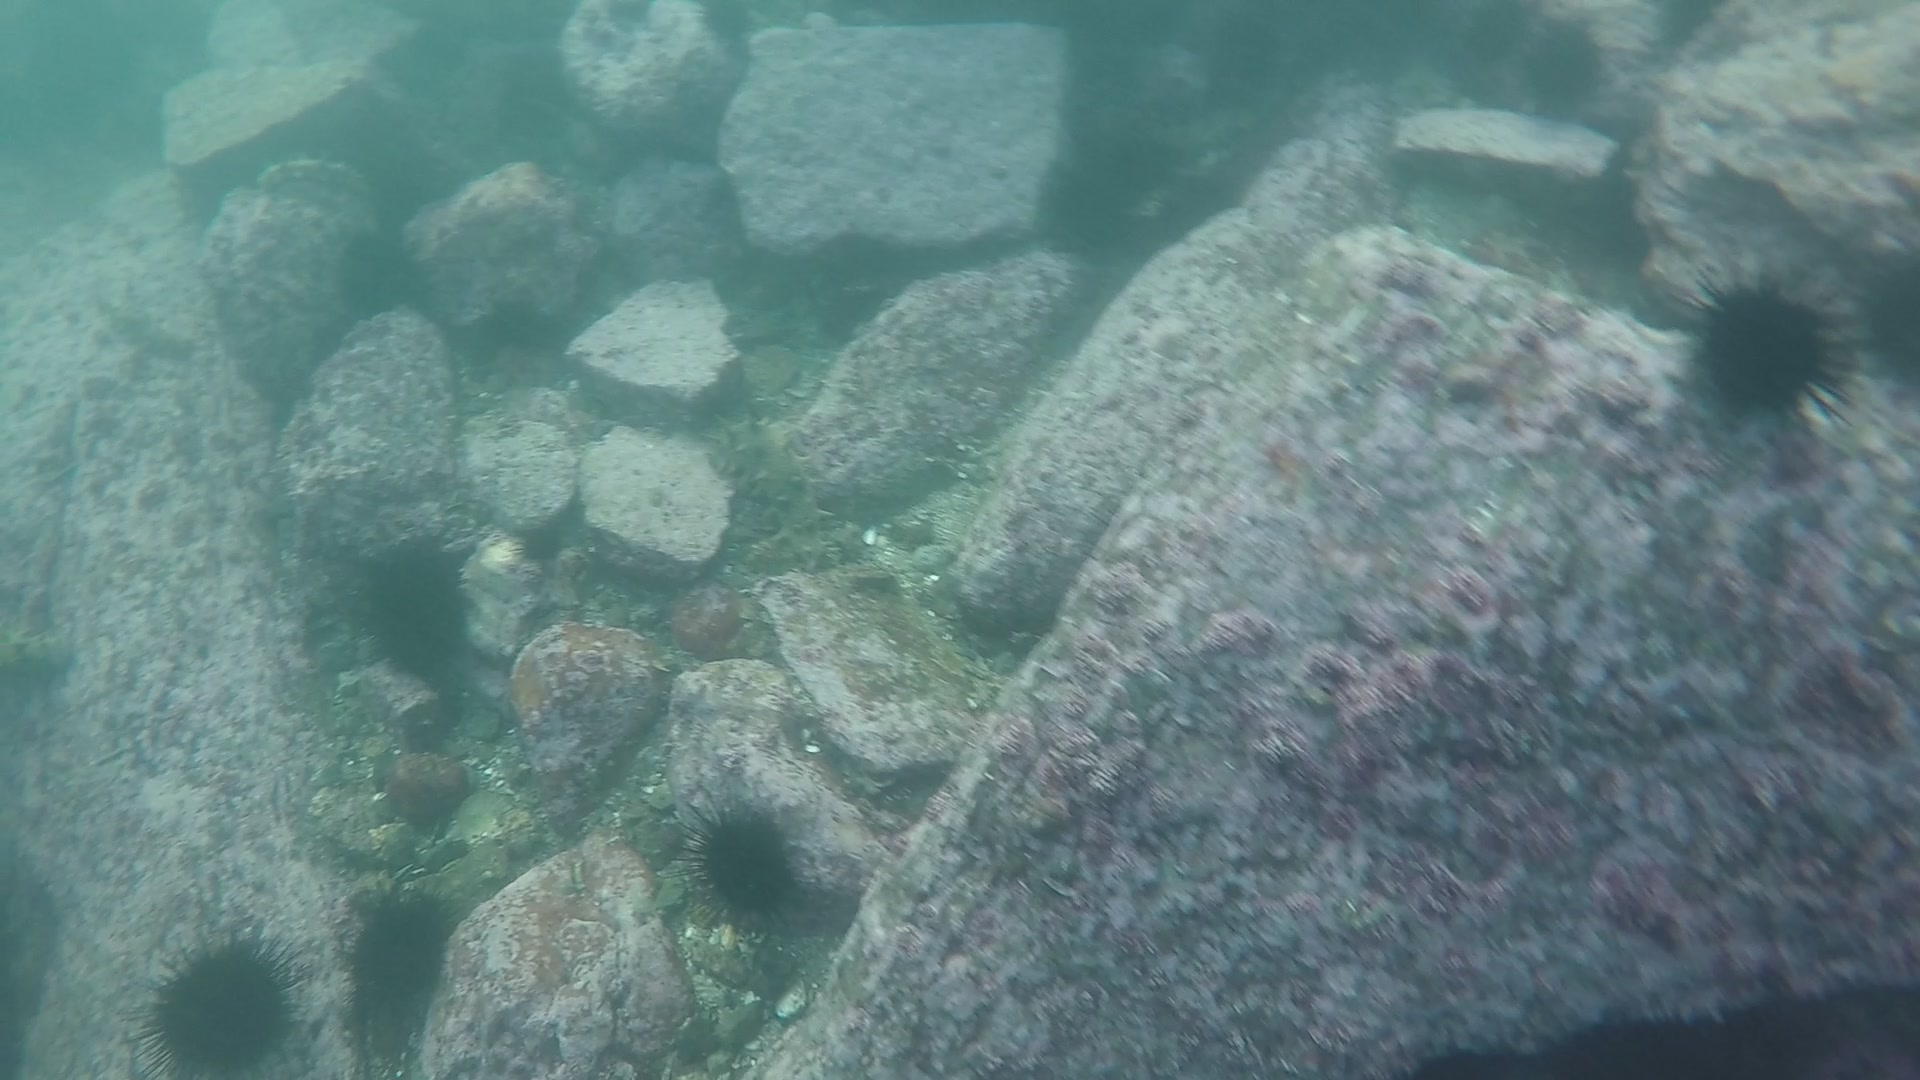echinus: (1683, 261, 1880, 430), (127, 932, 309, 1080), (356, 535, 477, 690), (662, 795, 803, 920), (352, 894, 456, 1033)
holothurian: (707, 414, 837, 568)
